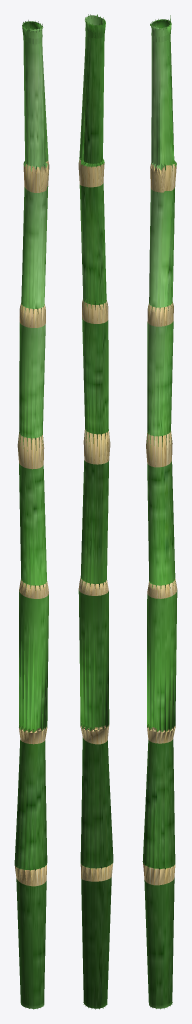
File: bamboo.FBX
The picture shows the model from 3 angles, left to right: view 1: azimuth 30°, elevation 25°; view 2: azimuth 210°, elevation 25°; view 3: azimuth 330°, elevation 25°; orthographic projection.
Visible parts, largest first — view 1: bamboo; view 2: bamboo; view 3: bamboo.
Part boxes in pixels (x1,y1,x2,y2): bamboo: (14,20,49,1009); bamboo: (78,14,113,1009); bamboo: (142,15,177,1009).
Size of the model in its own units: 25.12 by 767 by 23.41.
10 materials, 10 textured.
